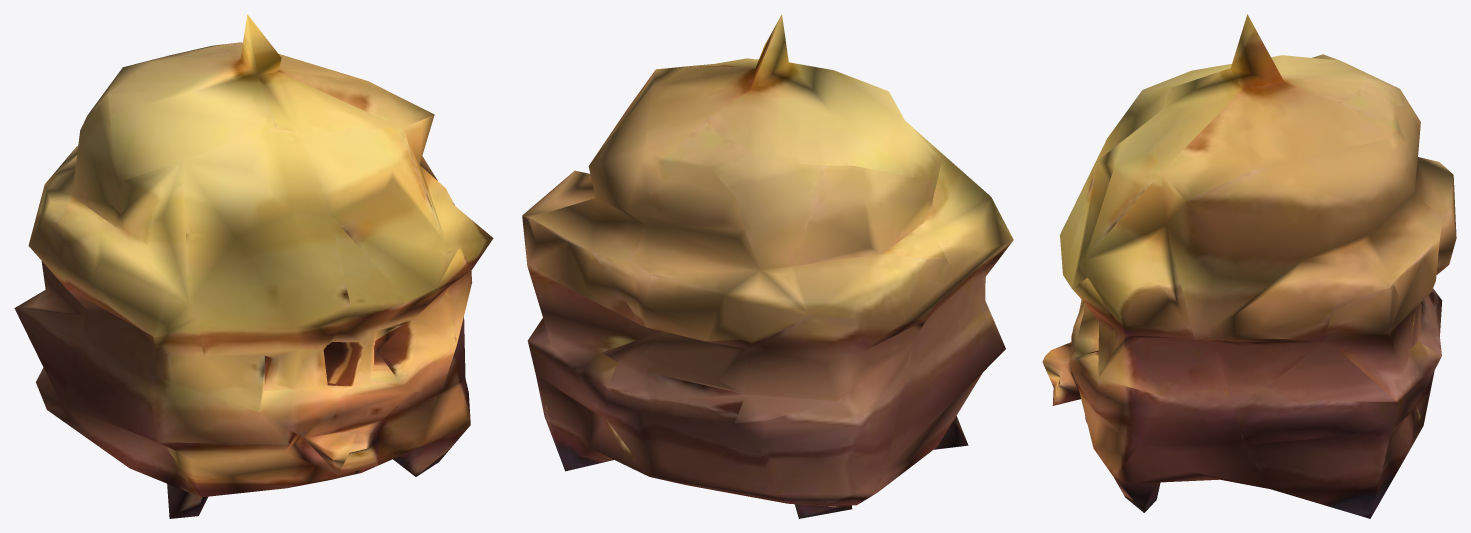
The model's file is beehive.glb.
3 renders of one model, left to right at view 1: azimuth 30°, elevation 25°; view 2: azimuth 150°, elevation 25°; view 3: azimuth 270°, elevation 25°, orthographic. The views are drawn at different scales.
Parts seen in each view (by area): view 1: tripo_node_f45d77e8-4e72-40ac-b38b-bd566cf60906; view 2: tripo_node_f45d77e8-4e72-40ac-b38b-bd566cf60906; view 3: tripo_node_f45d77e8-4e72-40ac-b38b-bd566cf60906.
Part boxes in pixels (box(x1,y1,x2,y2)): tripo_node_f45d77e8-4e72-40ac-b38b-bd566cf60906: box(14, 14, 493, 518); tripo_node_f45d77e8-4e72-40ac-b38b-bd566cf60906: box(522, 14, 1013, 518); tripo_node_f45d77e8-4e72-40ac-b38b-bd566cf60906: box(1042, 14, 1456, 518).
Size of the model in its own units: 0.8563 by 0.9762 by 0.8461.
Materials: 1 (1 with a texture image).
